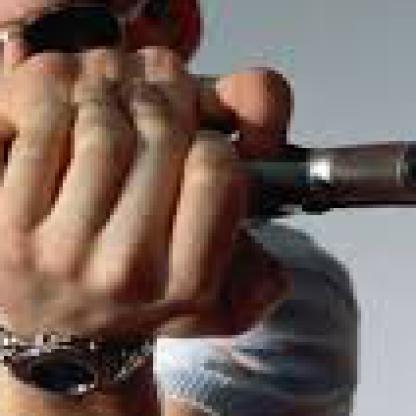gun: (177, 116, 412, 254)
